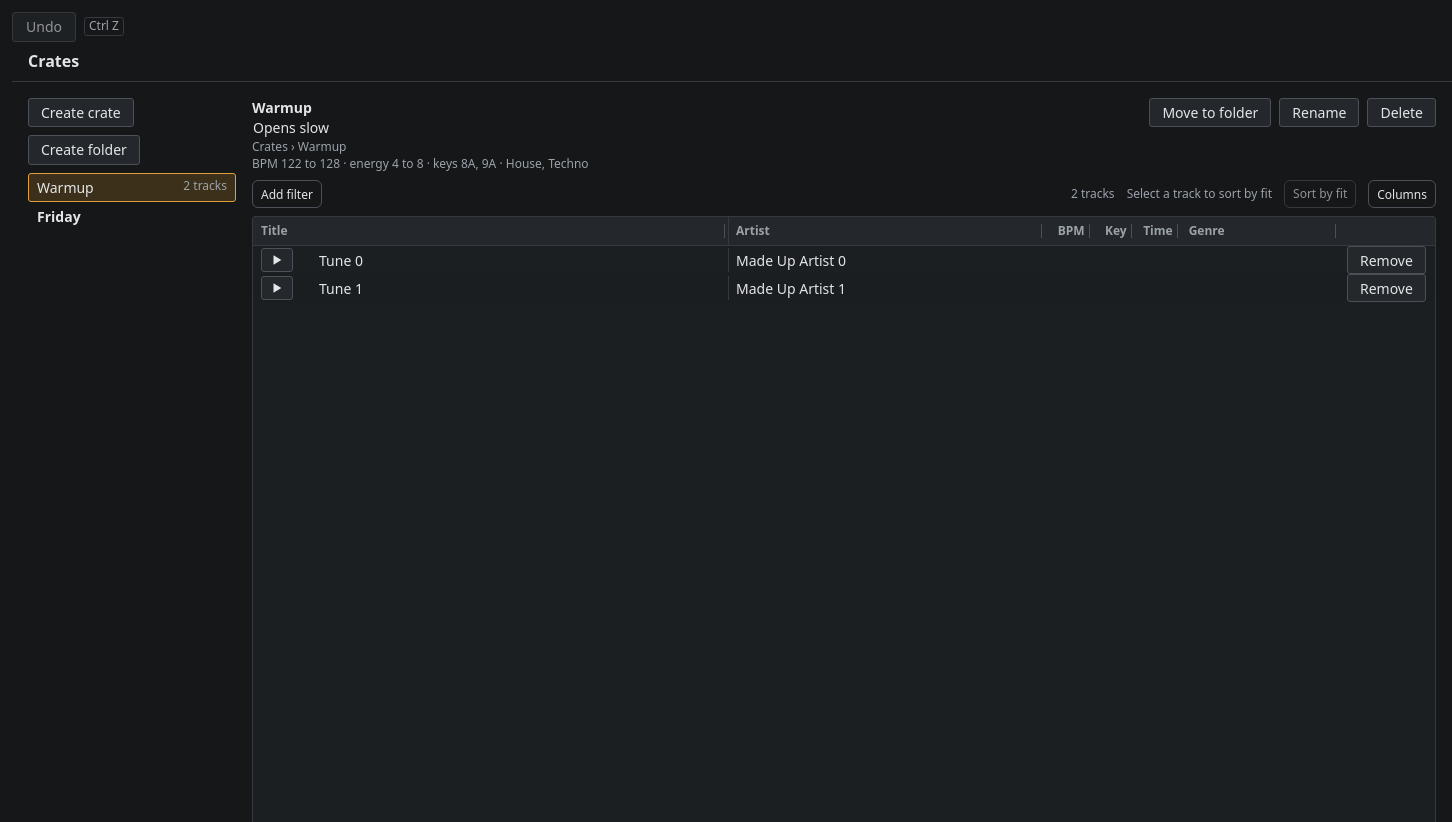
Scenario: a crate's note › goes back to the note it was with Escape, and saves nothing
Click the button "Opens slow" at (291, 128), box x1=252 y1=117 x2=330 y2=139
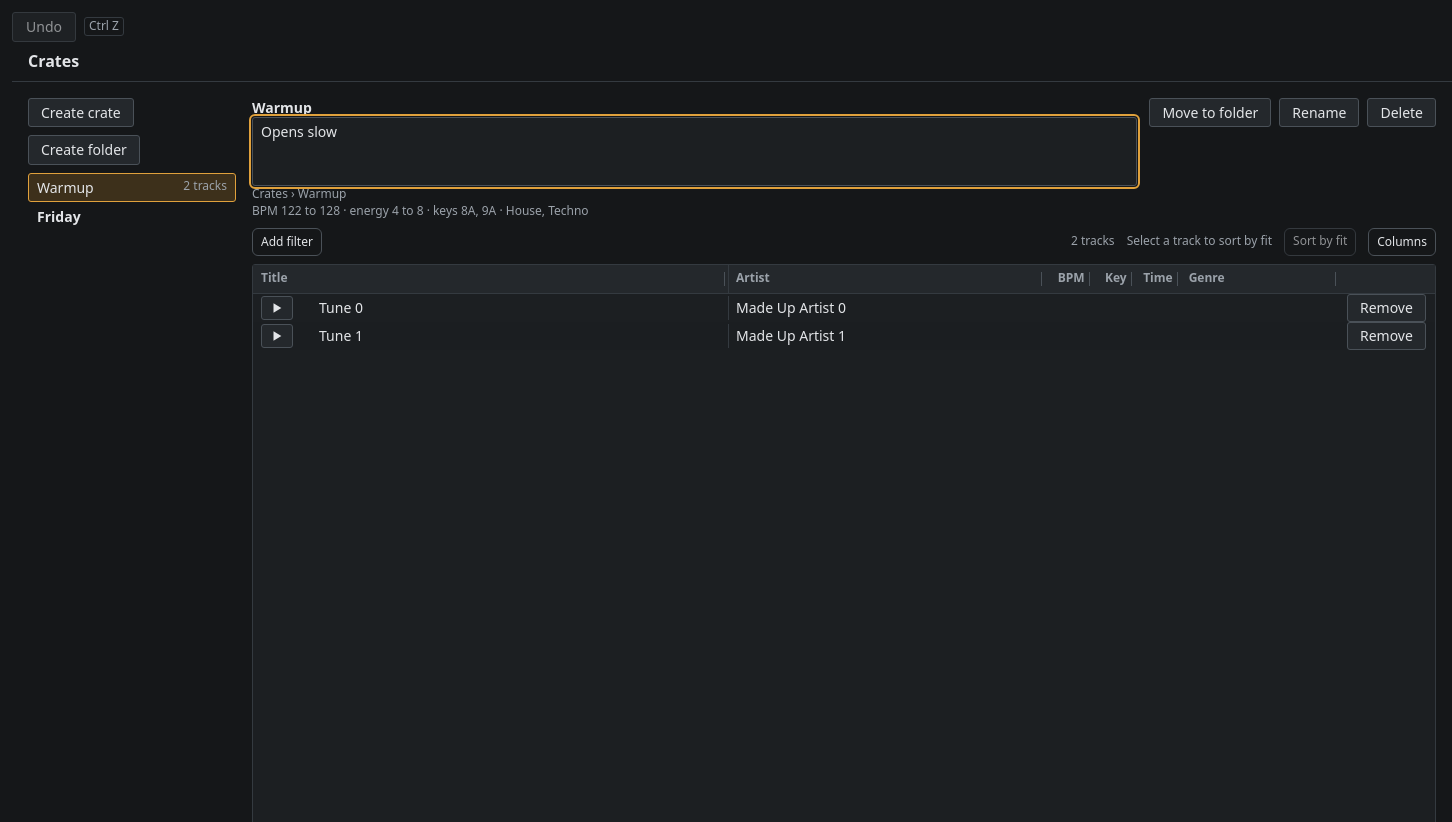
Result: the text box named "Note" holds "Opens slow"
Type " and long" into the text box named "Note" at (695, 152), box x1=252 y1=117 x2=1137 y2=186
Then press Escape
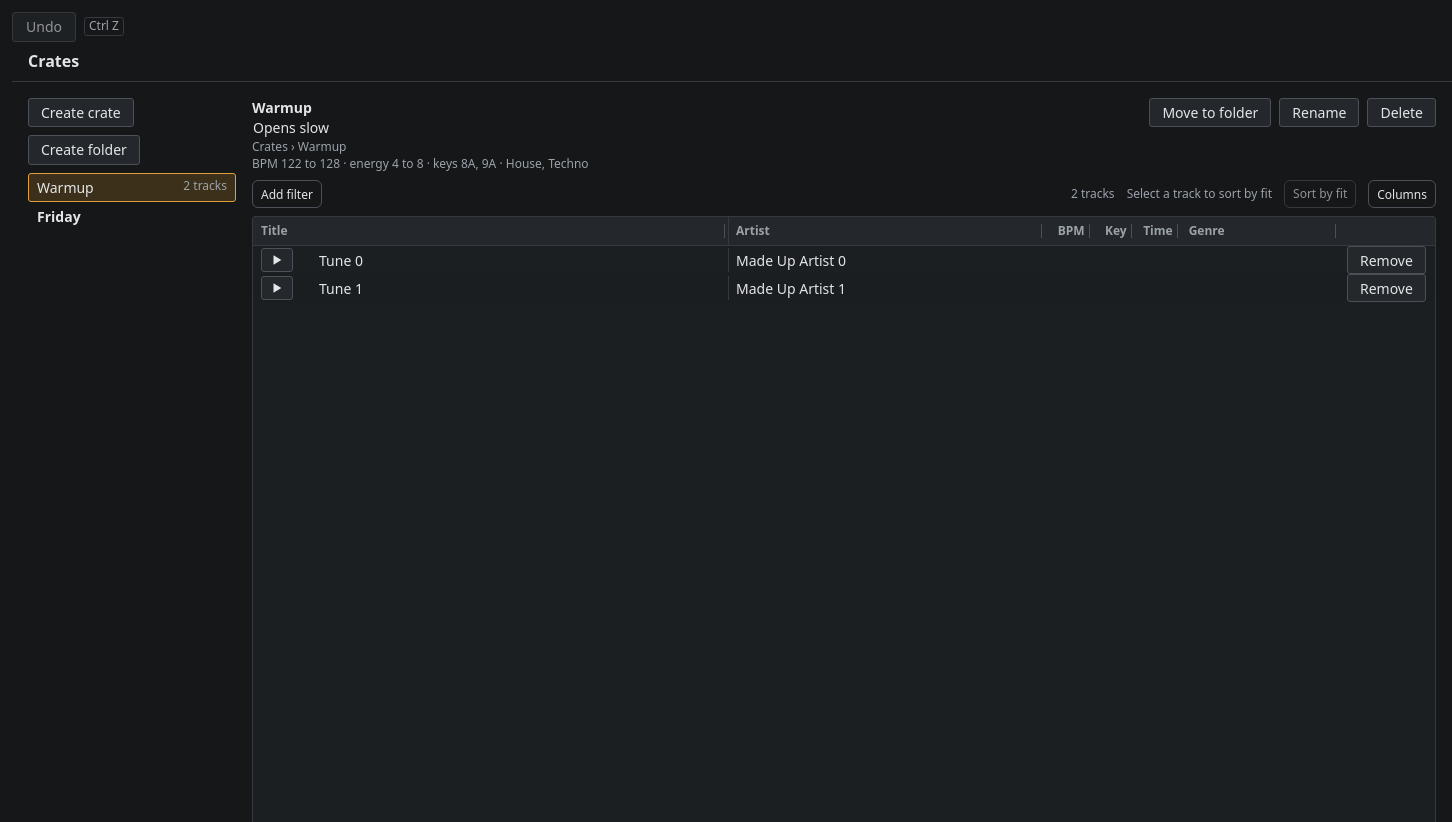
Result: the button "Opens slow" is shown at x1=252 y1=117 x2=330 y2=139
